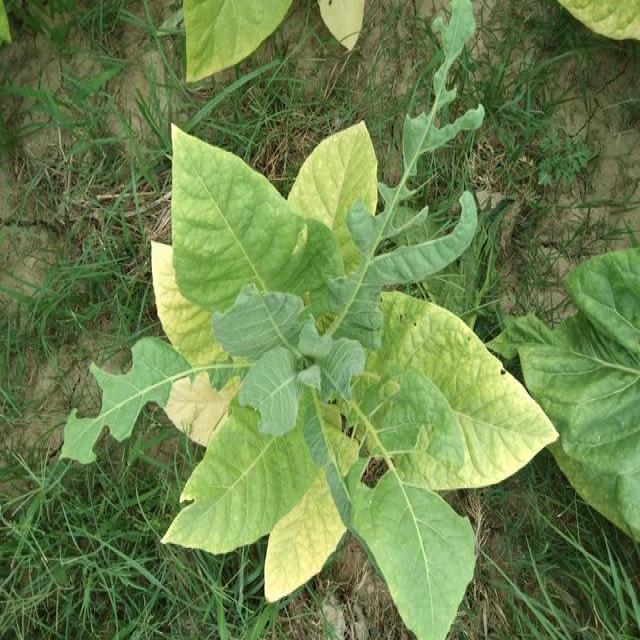crop: (136, 106, 571, 640)
